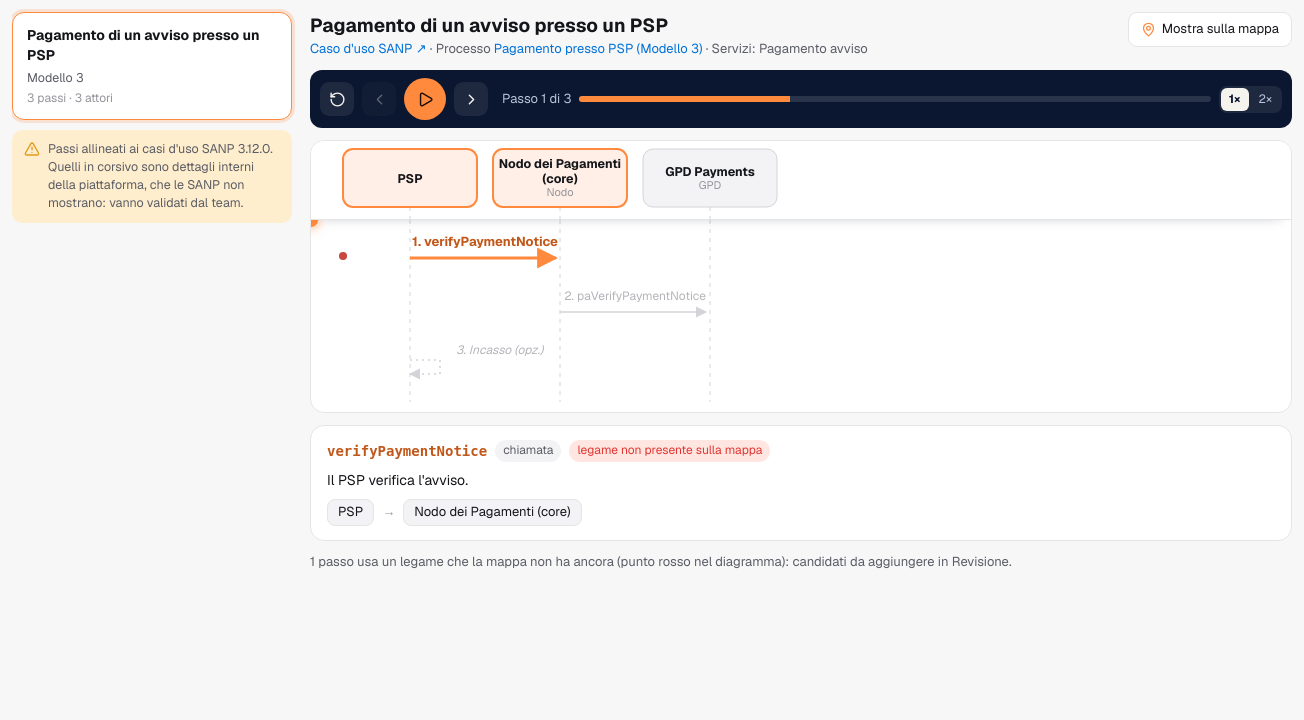
Test case: EaFlows › plays the flow on its own
Expected: the text "Passo 1 di 3" is shown, [502,90,571,109]
Click the button named "Avvia" at {"x": 425, "y": 99}, box [404,78,446,120]
Wait 5400 ms
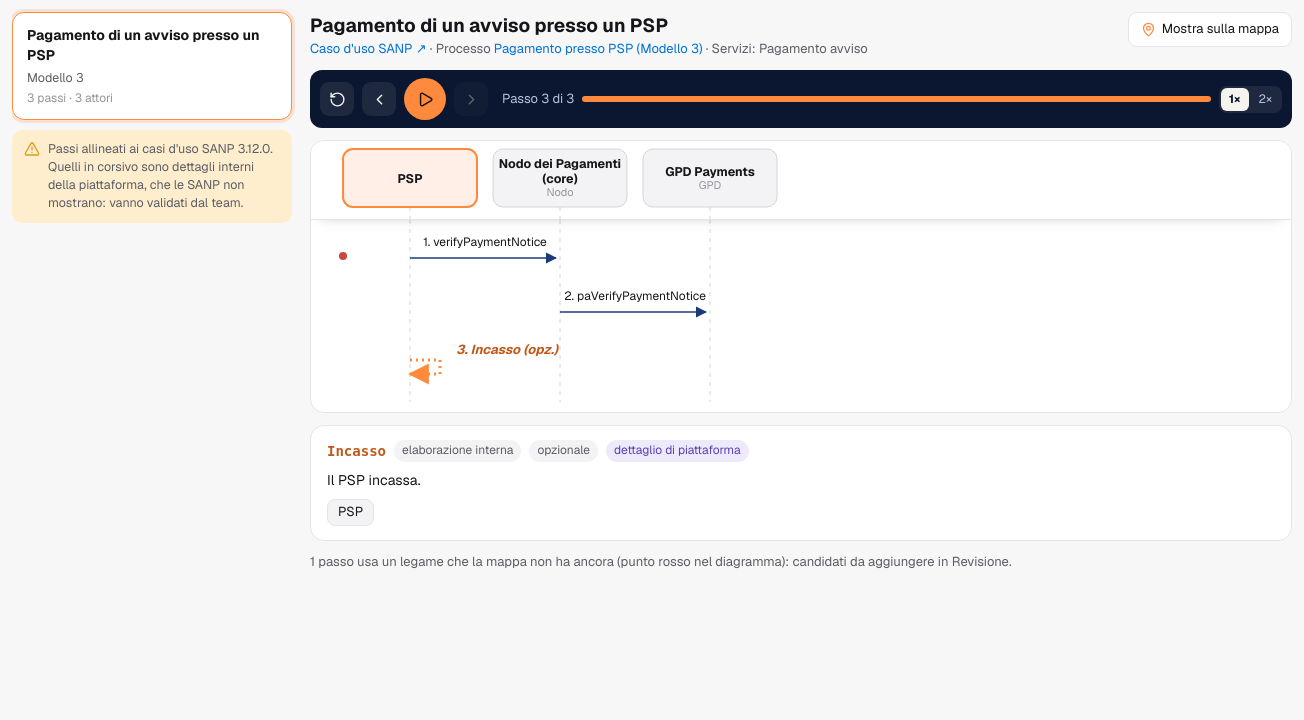
Result: the text "Passo 3 di 3" is shown at [502,90,574,109]
